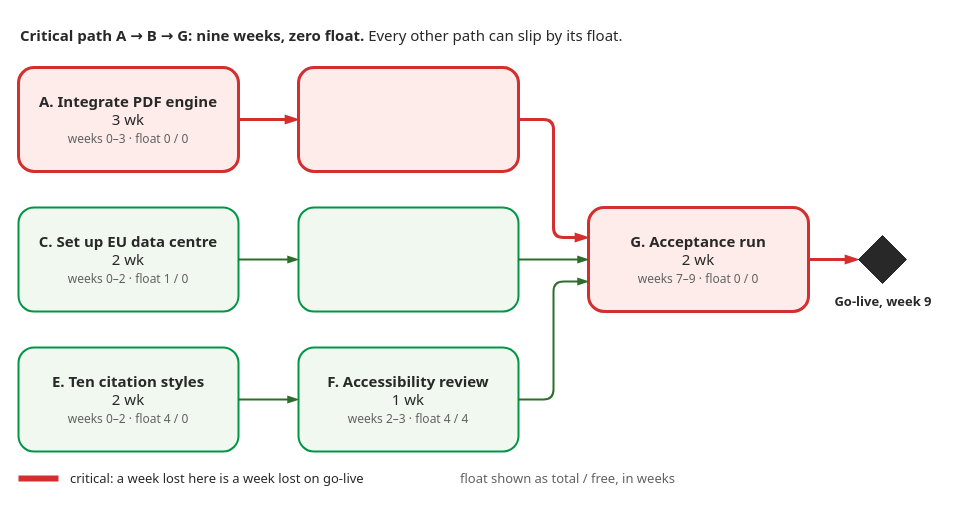
Some shapes in this 956 by 510 pixel diagram are drawn without their labels. Here are the shapes that lost their labels. From the top down, the centre of each, then its label:
At (408,119): "B. Tune for 500 pages 4 wk weeks 3–7 · float 0 / 0".
At (408,259): "D. Cloud sync, EU 4 wk weeks 2–6 · float 1 / 1".
